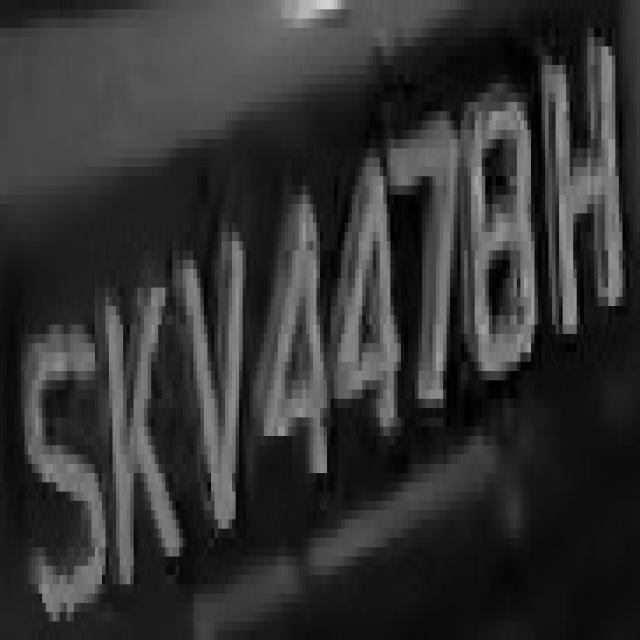4: (246, 139, 334, 538), (327, 130, 408, 464)
7: (383, 74, 457, 464)
8: (457, 84, 542, 418)
H: (542, 19, 630, 352)
K: (98, 241, 194, 622)
S: (0, 4, 1, 10)
V: (165, 176, 257, 566)
